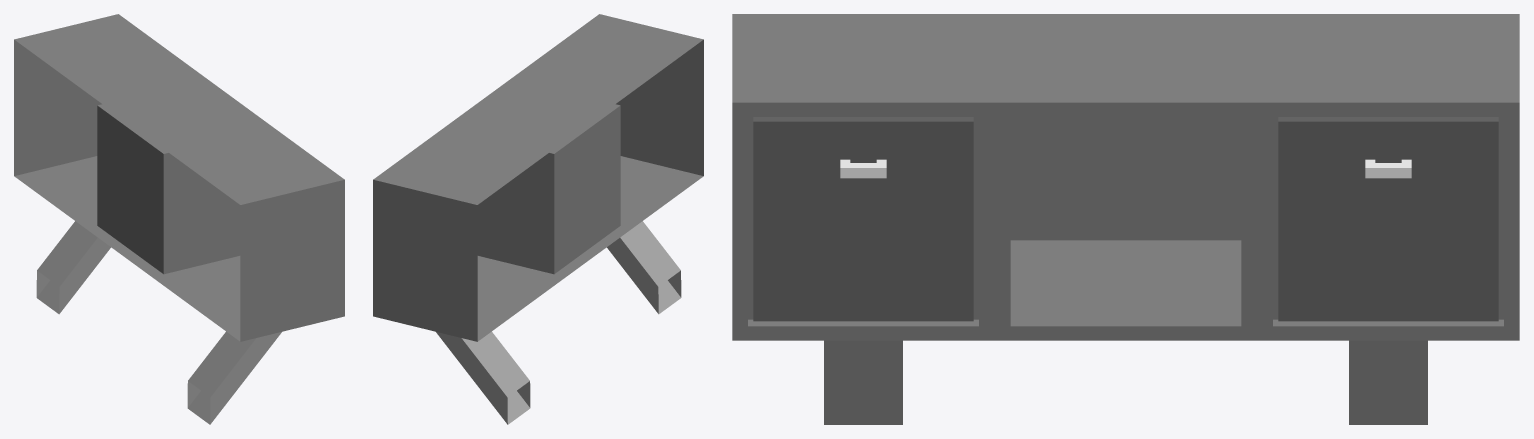
The model's file is Wall_Cabinet.fbx.
3 views of the same model, side by side, from view 1: azimuth 30°, elevation 25°; view 2: azimuth 150°, elevation 25°; view 3: azimuth 270°, elevation 25° (orthographic). The views are drawn at different scales.
Parts seen in each view (by area): view 1: Wall_Cabinet; view 2: Wall_Cabinet; view 3: Wall_Cabinet.
Part boxes in pixels (x1,y1,x2,y2): Wall_Cabinet: (14,14,344,424); Wall_Cabinet: (373,14,703,424); Wall_Cabinet: (732,14,1519,424).
Bounding box in the file's own units: 45.16 × 87.08 × 150.
